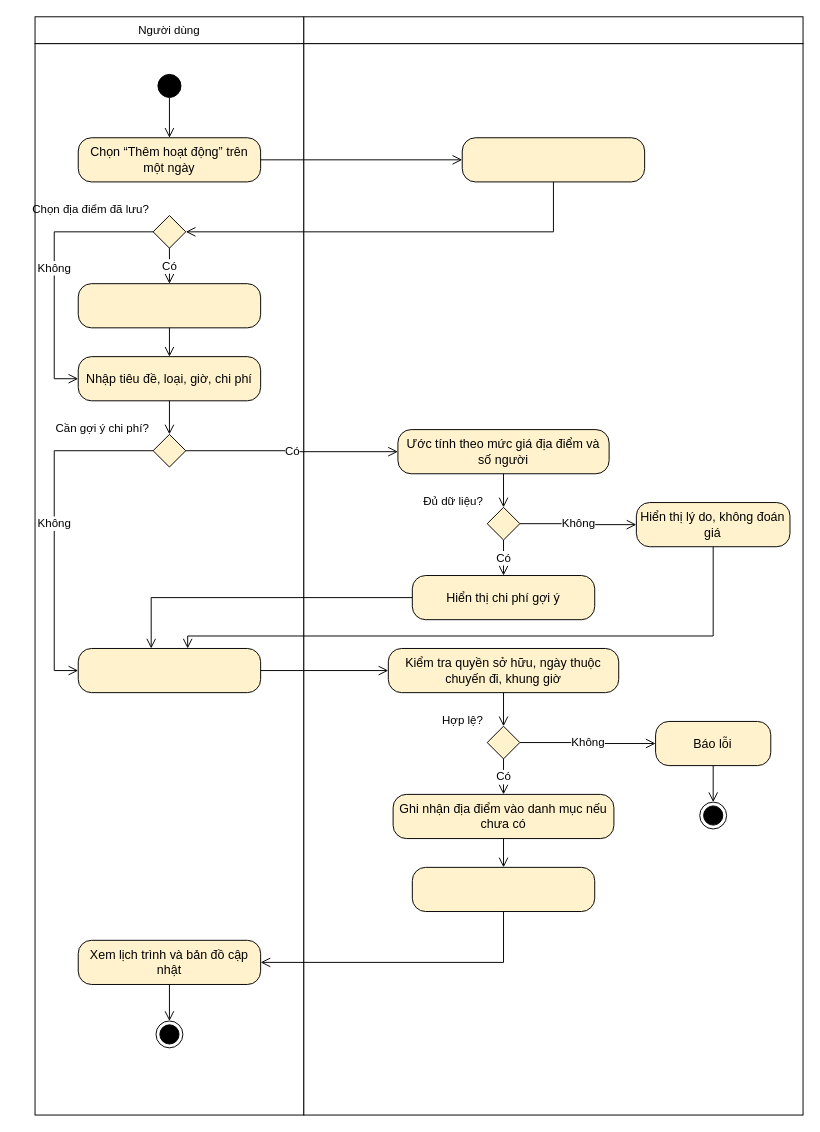
Some shapes in this 820 by 1132 pixel diagram are drawn without their labels. The shapes that lost their labels are listed below. From the top down, each one's centre as x and y in pixels, then its label:
At [553,30]: "Hệ thống".
At [553,159]: "Hiển thị biểu mẫu và danh sách địa điểm đã lưu".
At [169,305]: "Chọn địa điểm; hệ thống điền tiêu đề, loại".
At [169,670]: "Nhấn “Lưu”".
At [503,889]: "Thêm hoạt động vào cuối ngày".
